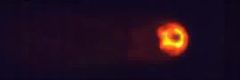keyhole: (169, 32, 184, 43)
